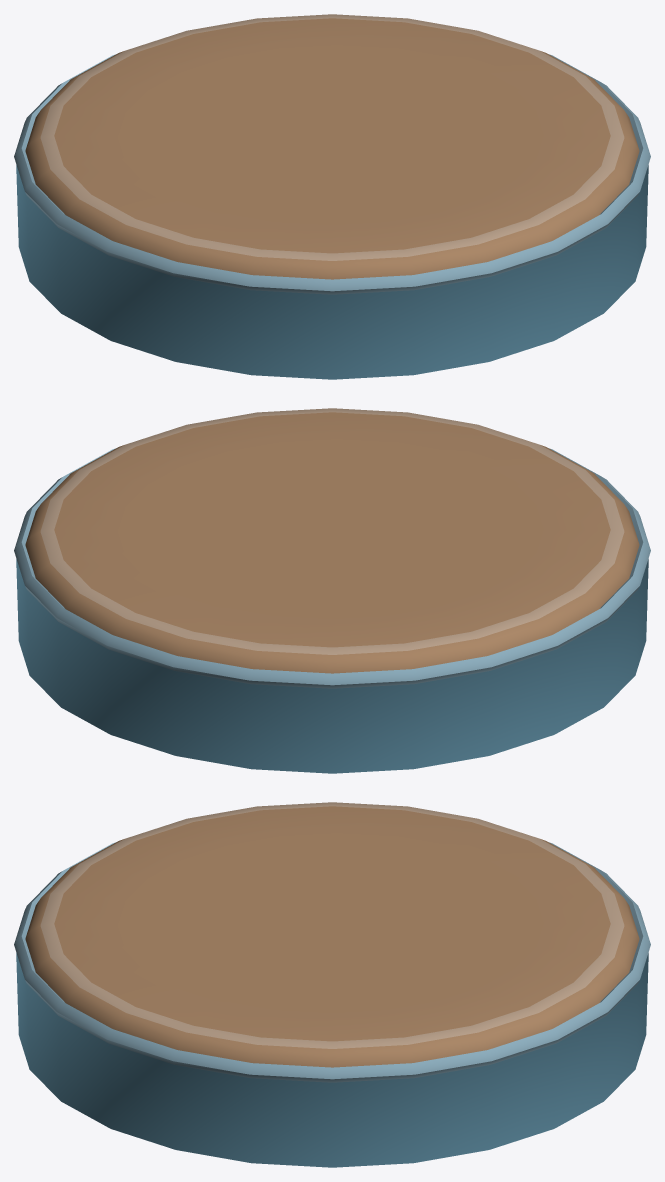
File: Molde.FBX
The picture shows the model from 3 angles, top to bottom: view 1: azimuth 30°, elevation 25°; view 2: azimuth 150°, elevation 25°; view 3: azimuth 270°, elevation 25°; orthographic projection.
Parts seen in each view (by area): view 1: Molde; view 2: Molde; view 3: Molde.
Boxes of the visible parts, x1=… form: Molde: x1=14, y1=14, x2=650, y2=379; Molde: x1=14, y1=408, x2=650, y2=773; Molde: x1=14, y1=802, x2=650, y2=1167.
Size of the model in its own units: 113 by 113 by 21.76.
